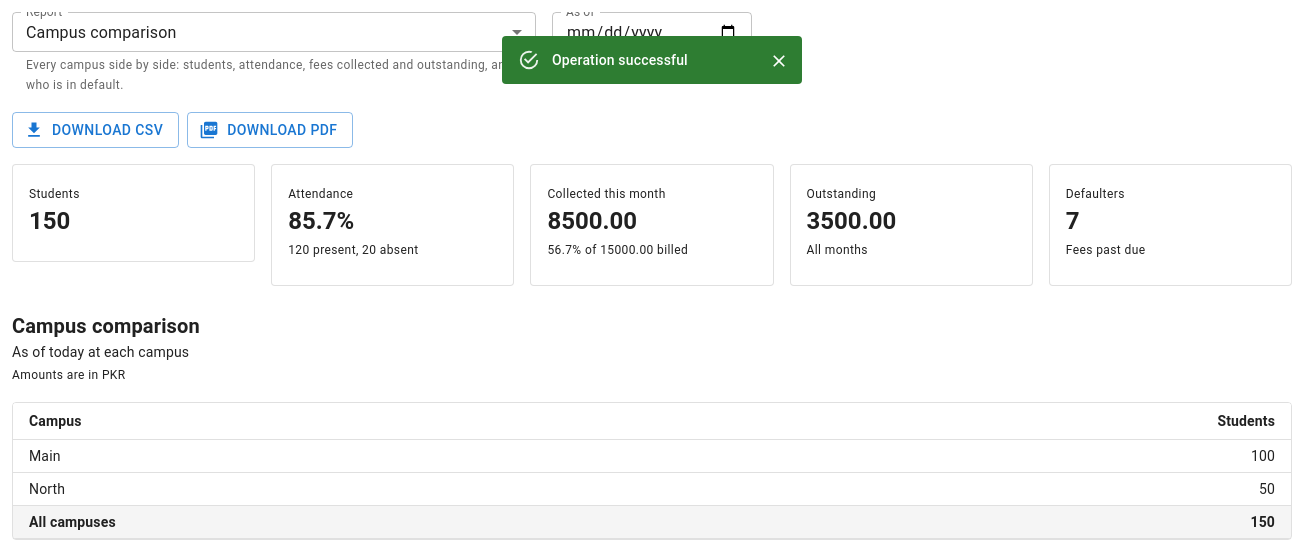
Test: ReportsManager › shows why a download was refused
Check: the heading "Campus comparison" is shown, box [12,314,200,338]
Click the button "Download PDF". click: (270, 130)
box: [187,112,354,148]
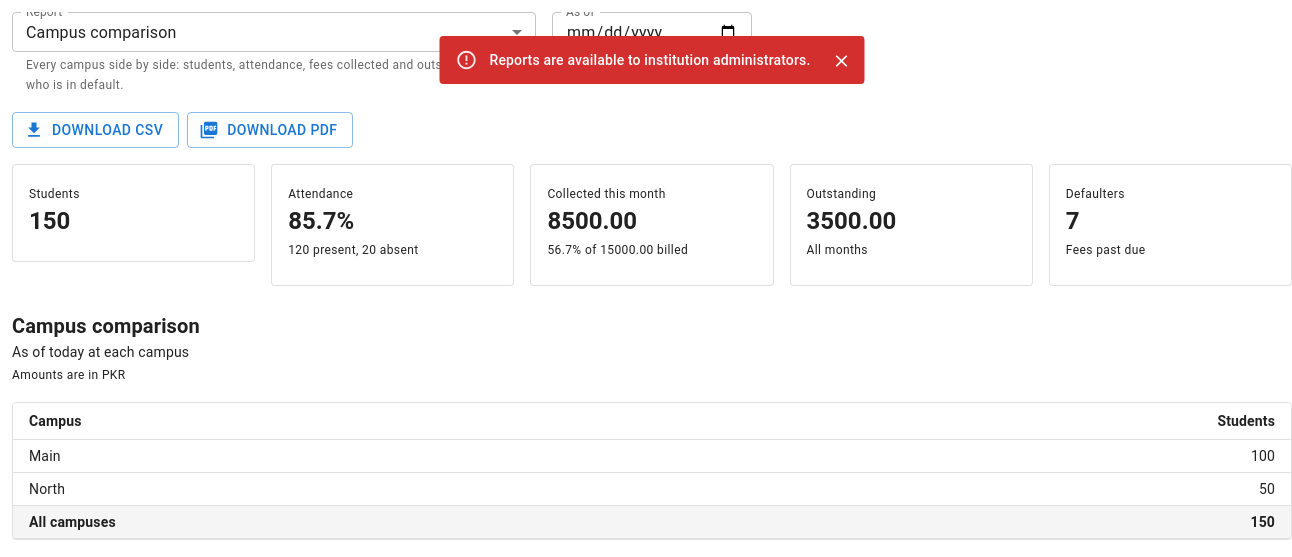
Check: the text "Reports are available to institution administrators." is shown, box [490,52,810,68]
